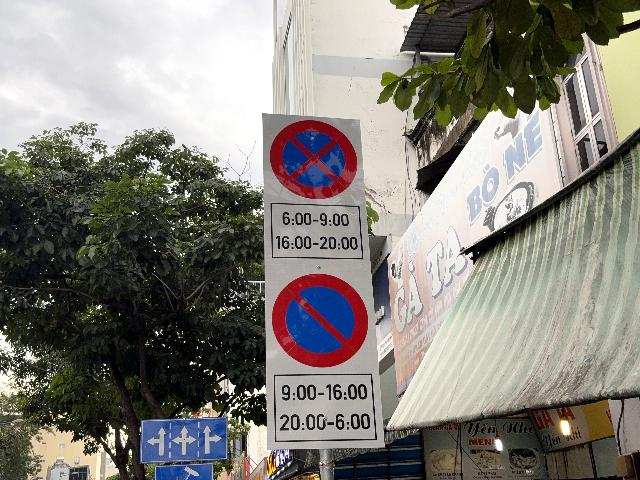cam-do-xe: (272, 274, 369, 368)
cam-dung-va-do-xe: (269, 119, 358, 200)
